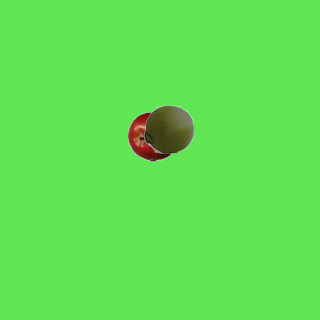Apple Braeburn: (127, 111, 177, 161)
Grape White 4: (143, 103, 193, 153)
